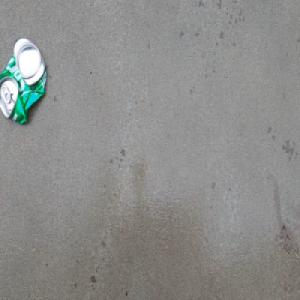SodaCan: (0, 36, 47, 127)
